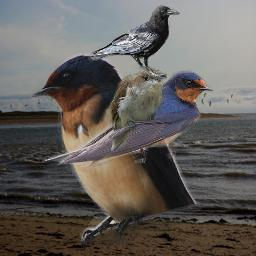Crow: (88, 4, 180, 77)
Cuckoo: (108, 67, 167, 152)
Swallow: (30, 53, 198, 246), (42, 69, 214, 167)
